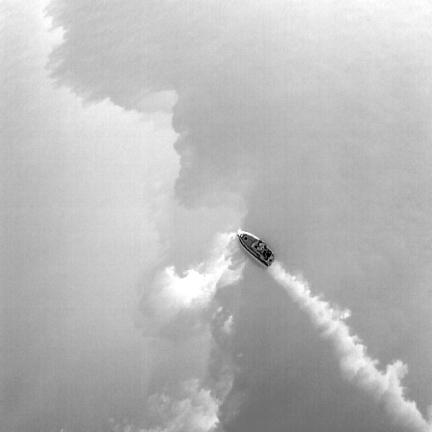flukeprints: (155, 267, 217, 314)
